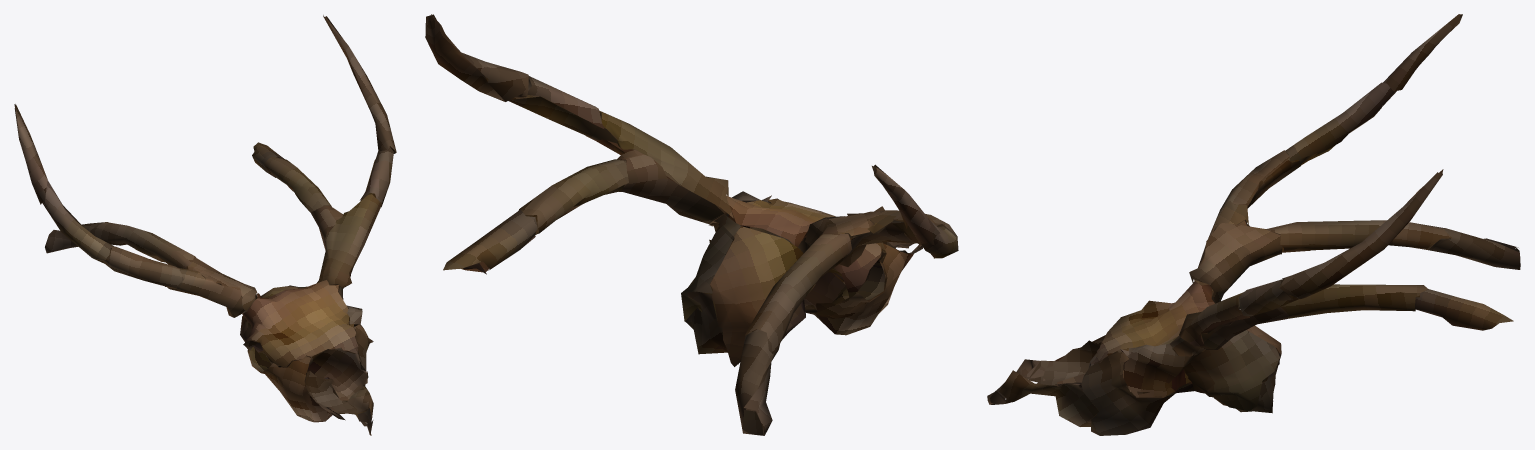
3 renders of one model, left to right at view 1: azimuth 30°, elevation 25°; view 2: azimuth 150°, elevation 25°; view 3: azimuth 270°, elevation 25°, orthographic. The views are drawn at different scales.
Parts seen in each view (by area): view 1: Hapleidoceros_LP.004; view 2: Hapleidoceros_LP.004; view 3: Hapleidoceros_LP.004.
Boxes of the visible parts, left/top/right/bottom form: Hapleidoceros_LP.004: left=14, top=15, right=396, bottom=435; Hapleidoceros_LP.004: left=425, top=14, right=958, bottom=435; Hapleidoceros_LP.004: left=987, top=14, right=1520, bottom=435.
Bounding box in the file's own units: 0.4531 × 0.3486 × 0.5085.
Materials: 1 (1 with a texture image).
